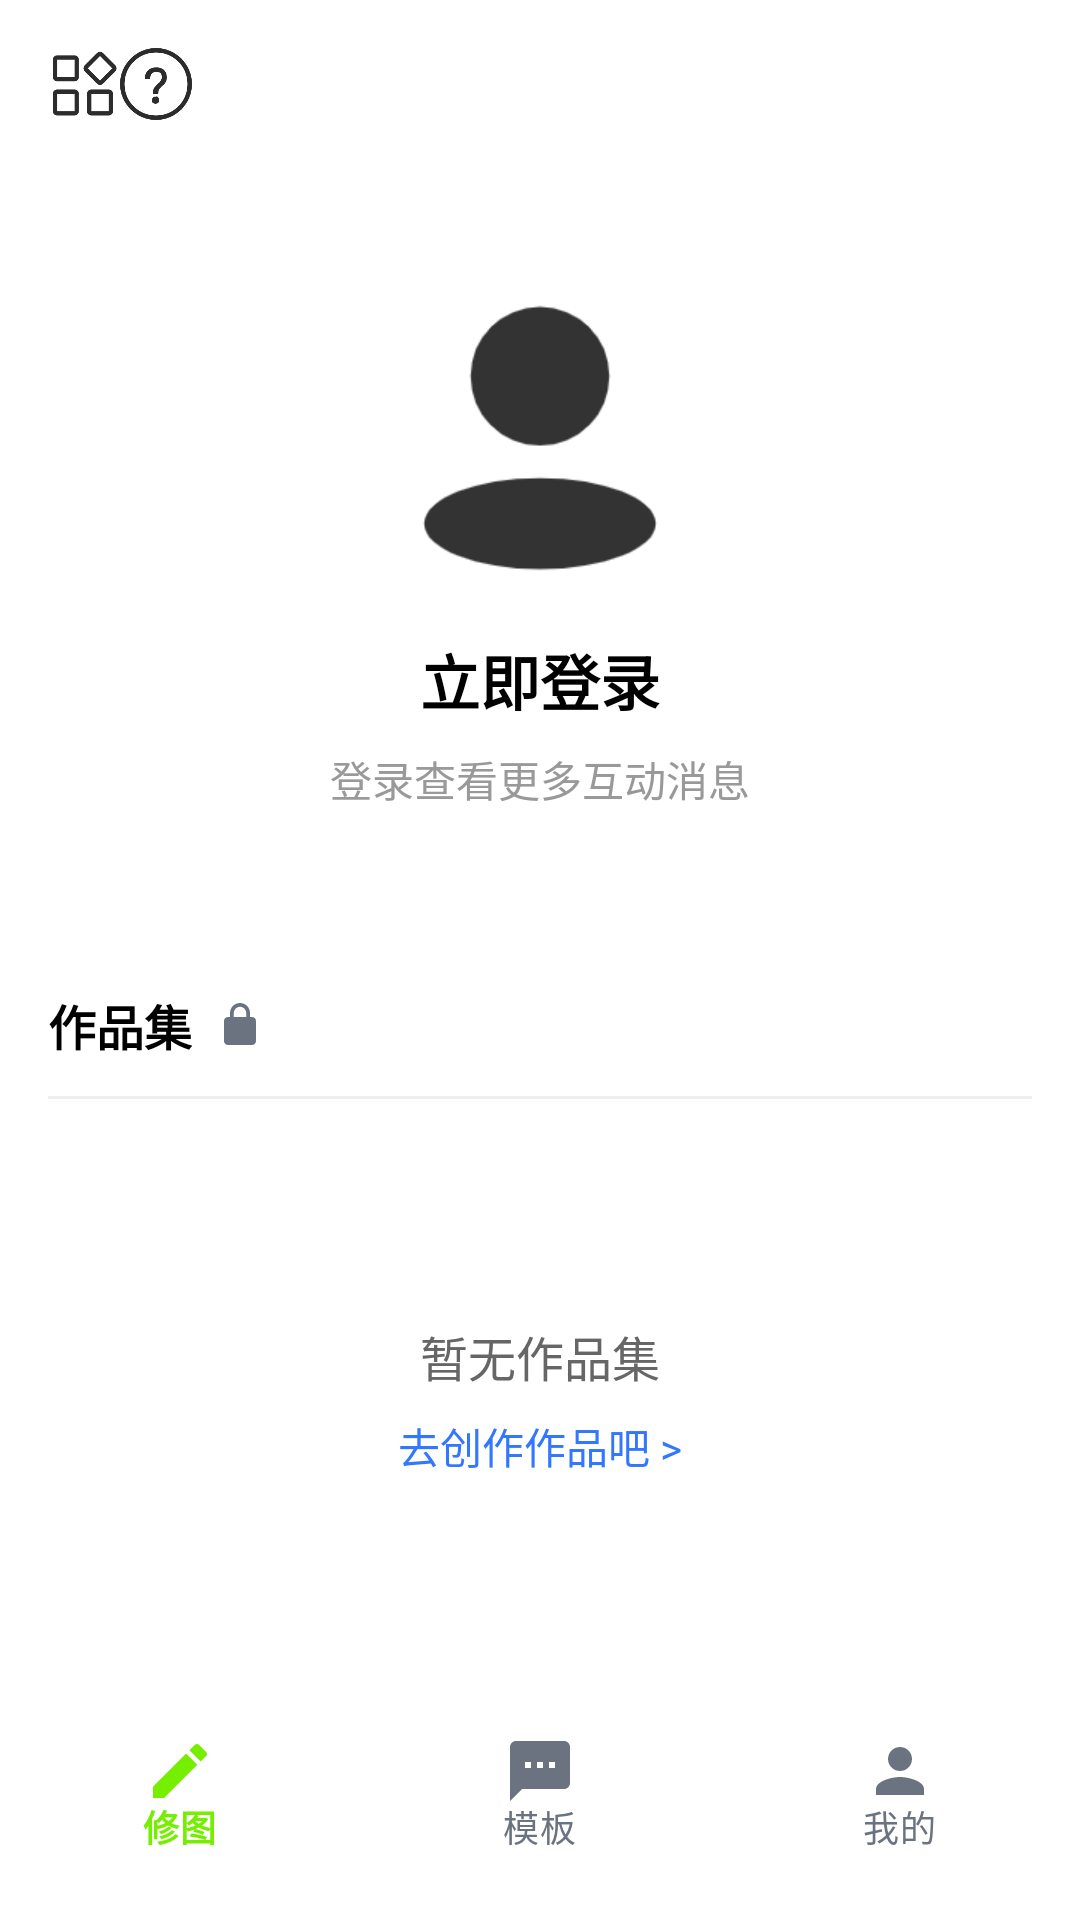

Named icons in this screenshot (1080*1920) and their bounding boxes, (left=x1, top=y1, right=x2, bottom=y2):
帮助: (left=120, top=48, right=192, bottom=120)
菜单: (left=53, top=52, right=117, bottom=116)
锁定: (left=224, top=1003, right=256, bottom=1045)
